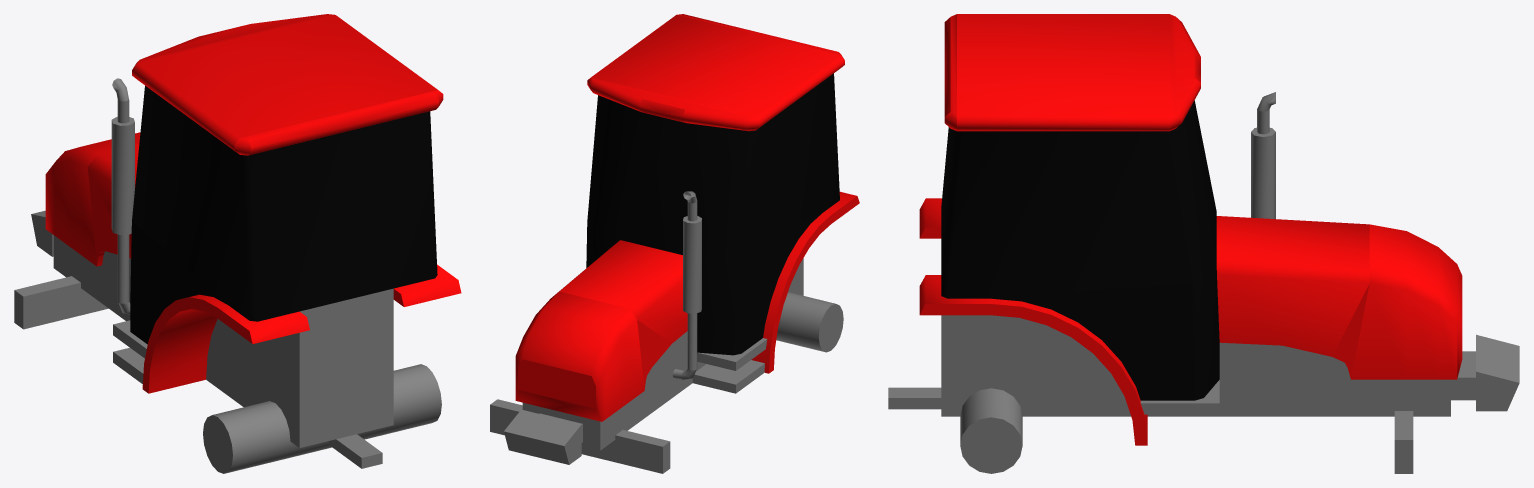
File: chassi.obj
3 renders of one model, left to right at view 1: azimuth 30°, elevation 25°; view 2: azimuth 150°, elevation 25°; view 3: azimuth 270°, elevation 25°, orthographic. The views are drawn at different scales.
Size of the model in its own units: 4 by 6.3 by 10.1.
